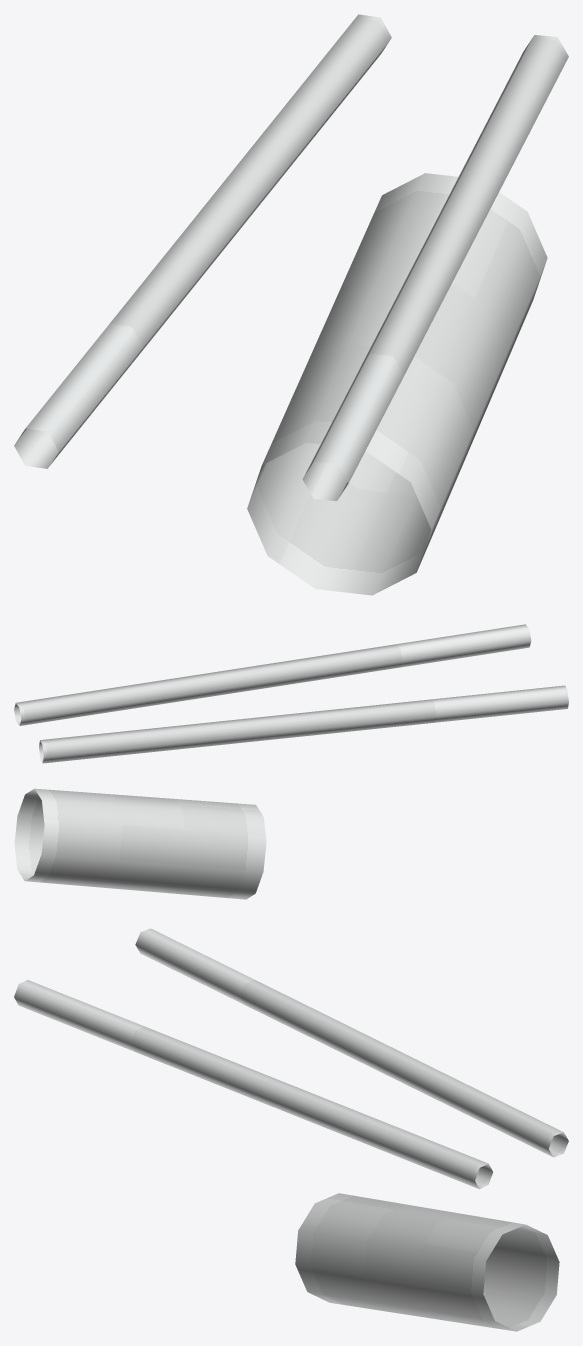
Rendered from nycsignalarm_diagonal8_c15.obj.
3 renders of one model, top to bottom at view 1: azimuth 30°, elevation 25°; view 2: azimuth 150°, elevation 25°; view 3: azimuth 270°, elevation 25°, orthographic. The views are drawn at different scales.
Visible parts, largest first — view 1: nycsignalarm_diagonal8_c15; view 2: nycsignalarm_diagonal8_c15; view 3: nycsignalarm_diagonal8_c15.
Boxes of the visible parts, x1,y1,x2,y2 form: nycsignalarm_diagonal8_c15: [14, 14, 568, 595]; nycsignalarm_diagonal8_c15: [14, 624, 568, 899]; nycsignalarm_diagonal8_c15: [14, 928, 568, 1331].
Bounding box in the file's own units: 1.27 × 0.5878 × 1.27.
